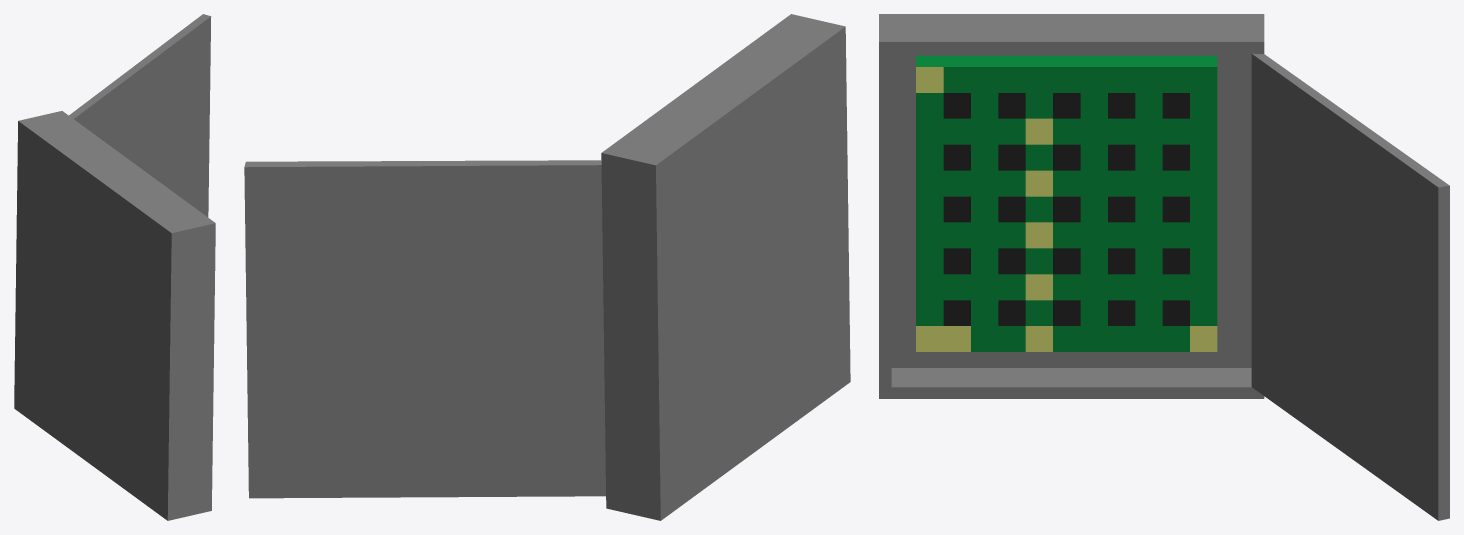
Rendered from PlatineMitGehäuse.fbx.
The picture shows the model from 3 angles, left to right: view 1: azimuth 30°, elevation 25°; view 2: azimuth 150°, elevation 25°; view 3: azimuth 270°, elevation 25°; orthographic projection. The views are drawn at different scales.
Parts seen in each view (by area): view 1: TürSchaltKasten; view 2: TürSchaltKasten; view 3: TürSchaltKasten, Schaltbrett1.
Boxes of the visible parts, x1=… form: TürSchaltKasten: x1=14, y1=14, x2=215, y2=520; TürSchaltKasten: x1=244, y1=14, x2=850, y2=520; TürSchaltKasten: x1=879, y1=14, x2=1449, y2=520; Schaltbrett1: x1=916, y1=55, x2=1217, y2=351.
Size of the model in its own units: 1.47 by 1.52 by 2.18.
